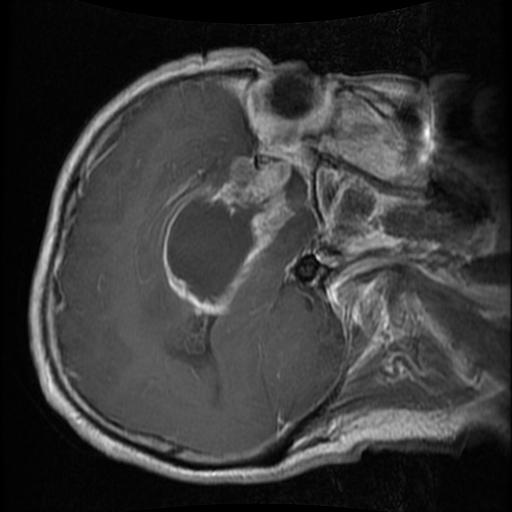glioma: (163, 152, 295, 316)
